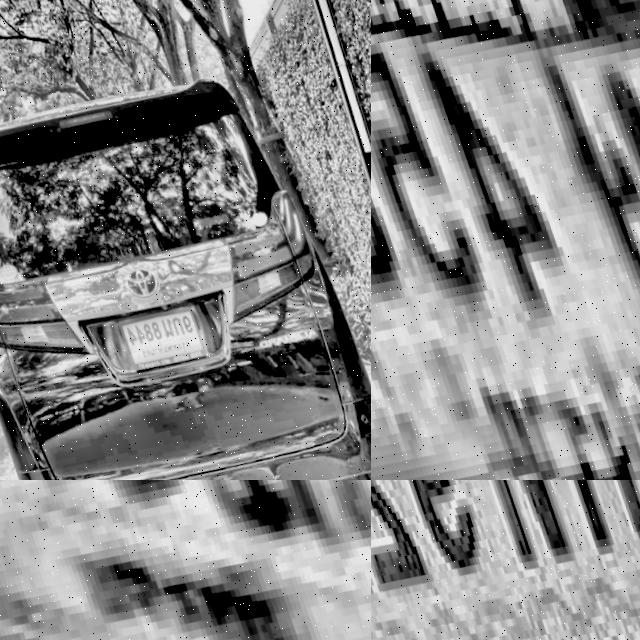license-plate: (371, 0, 640, 480), (0, 480, 371, 640), (371, 480, 640, 640), (106, 297, 201, 371)
